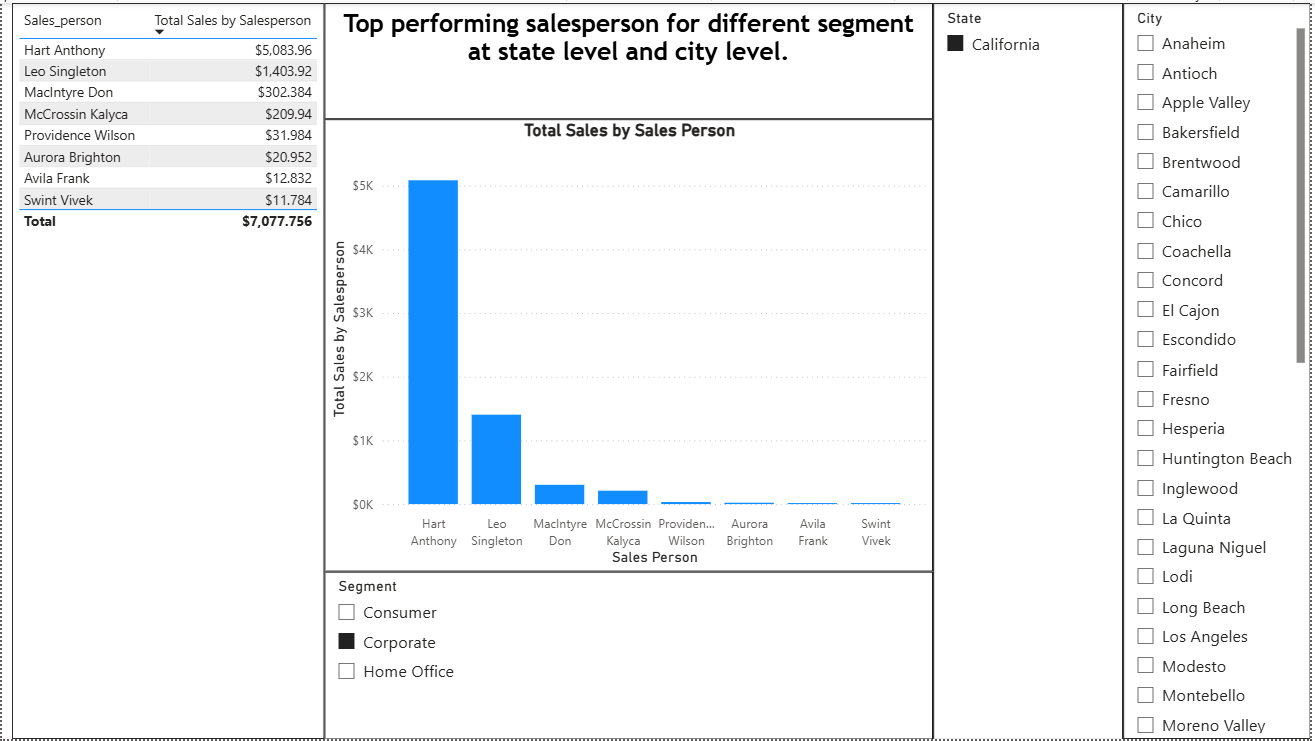

Layout of this report page (visuals, bound fields, positions):
{"tool":"powerbi","page":{"name":"Page 4","canvas":[1280,720],"ordinal":3},"visuals":[{"type":"tableEx","fields":{"Values":["SalesPerson.Sales_person","Orders.Total Sales by Salesperson"]},"box":[9.8,0,305.7,720.2],"z":0},{"type":"slicer","fields":{"Values":["Orders.Segment"]},"box":[315.5,556.4,595.5,163.9],"z":1000},{"type":"slicer","fields":{"Values":["Orders.State"]},"box":[911.2,0,185.2,720.4],"z":2000},{"type":"slicer","fields":{"Values":["Orders.City"]},"box":[1096.9,0,183.4,720.2],"z":3000},{"type":"clusteredColumnChart","title":"Total Sales by Sales Person ","fields":{"Category":["SalesPerson.Sales_person"],"Y":["Orders.Total Sales by Salesperson"]},"box":[315.5,113.7,595.5,442.7],"z":4000},{"type":"textbox","box":[315.5,0,595.5,113.7],"z":5000}]}

Visuals, with their boxes in screenshot pixels (x1, y1, x2, y2), scaled from the page's 1280x720 canvas onto the 1315x741 screenshot:
tableEx - SalesPerson.Sales_person x Orders.Total Sales by Salesperson: 10 0 324 740
slicer - Orders.Segment: 324 573 936 740
slicer - Orders.State: 936 0 1126 740
slicer - Orders.City: 1127 0 1314 740
"Total Sales by Sales Person " clusteredColumnChart: 324 117 936 573
textbox: 324 0 936 117
